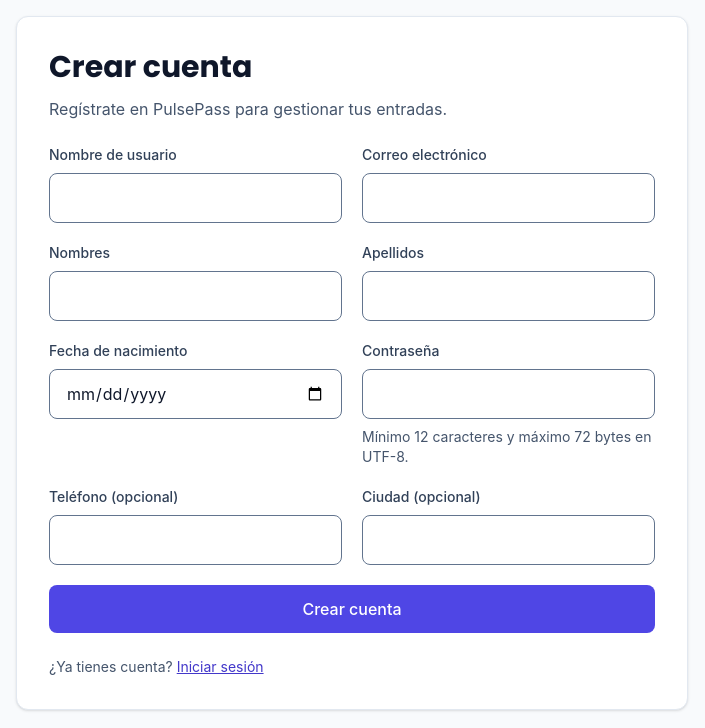
Test: Registro › ante 201 navega al login con aviso y no inicia sesión automáticamente
This screenshot has width=705, height=728.
Type "andrea" into the field labelled "Nombre de usuario" at (196, 198), box [49,173,342,223]
Type "andrea@example.com" into the field labelled "Correo electrónico" at (508, 198), box [362,173,655,223]
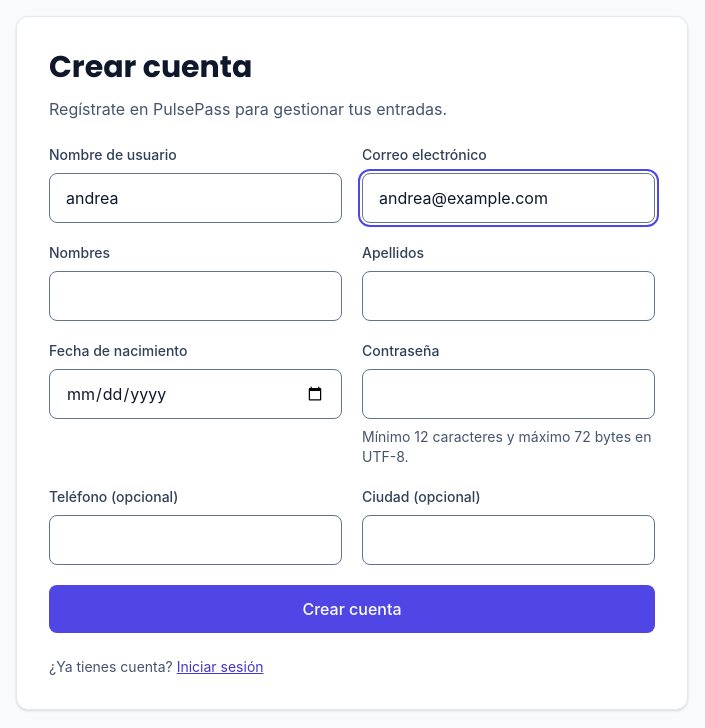
Type "Andrea" into the field labelled "Nombres" at (196, 296), box [49,271,342,321]
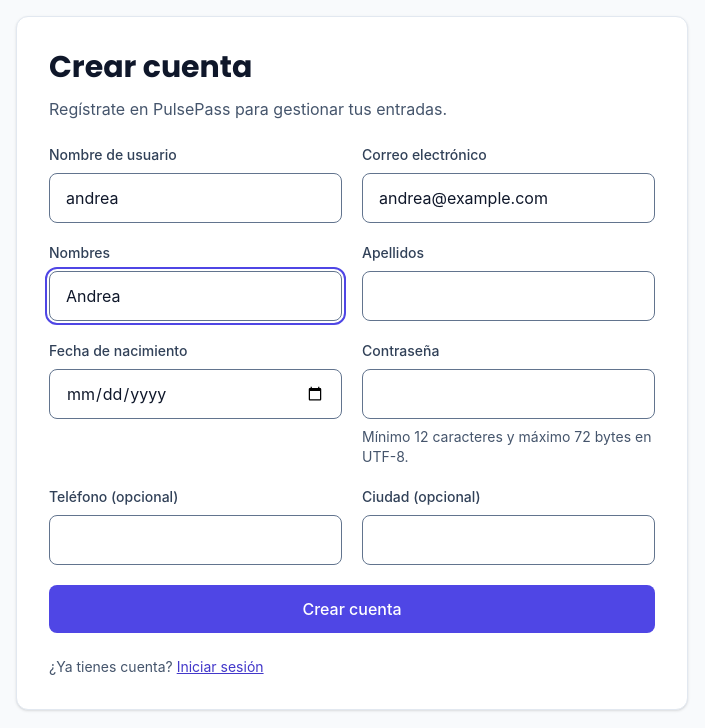
Type "Pérez" into the field labelled "Apellidos" at (508, 296), box [362,271,655,321]
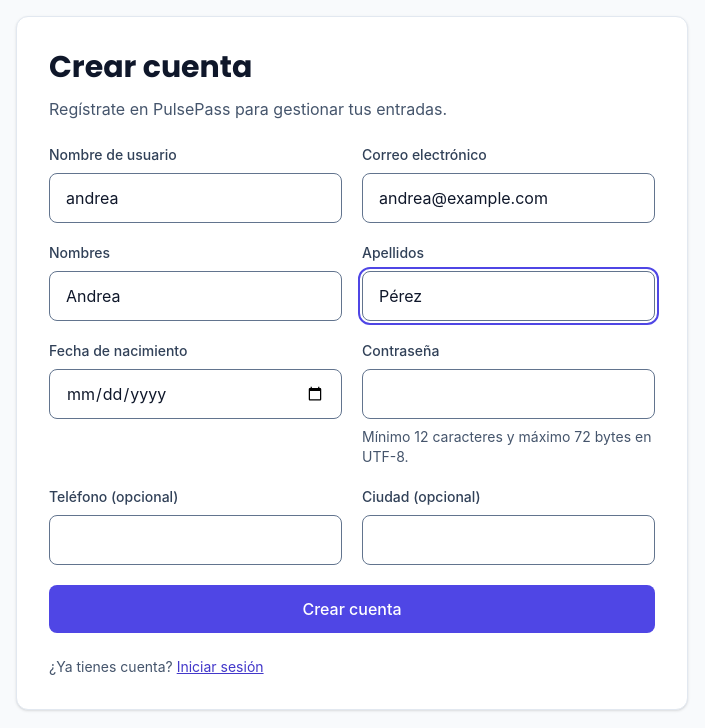
Type "2000-01-01" into the date field labelled "Fecha de nacimiento" at (196, 394), box [49,369,342,419]
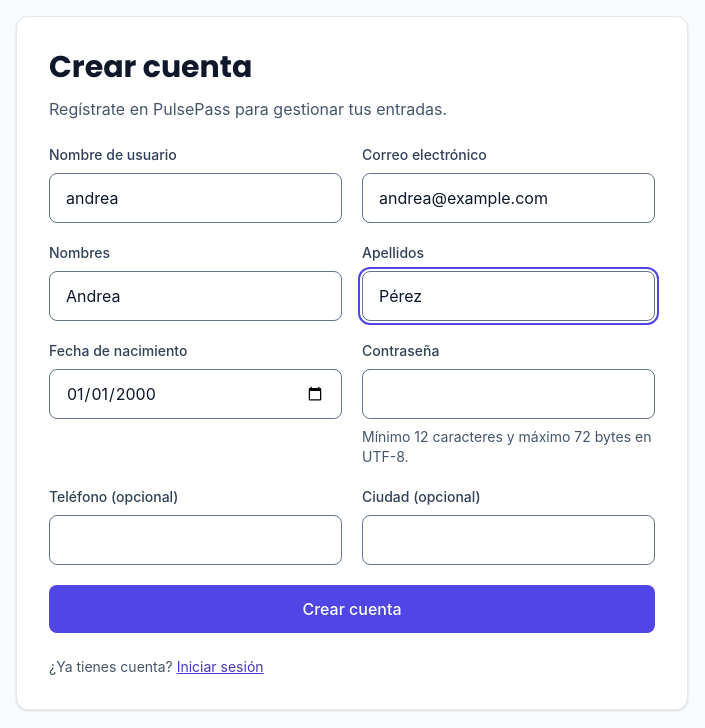
Type "contraseña-de-prueba" into the password field labelled "Contraseña" at (508, 394), box [362,369,655,419]
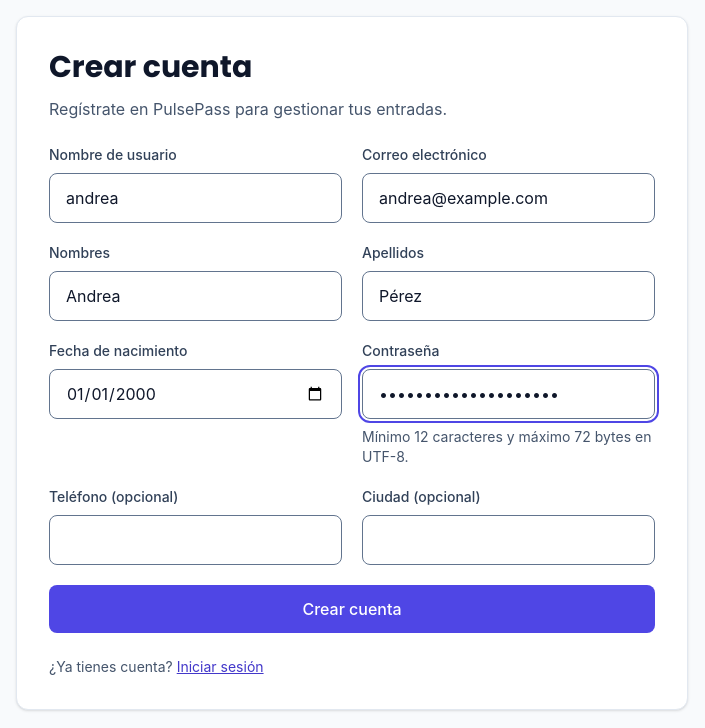
Click the button "Crear cuenta" at (352, 609), box [49,585,655,633]
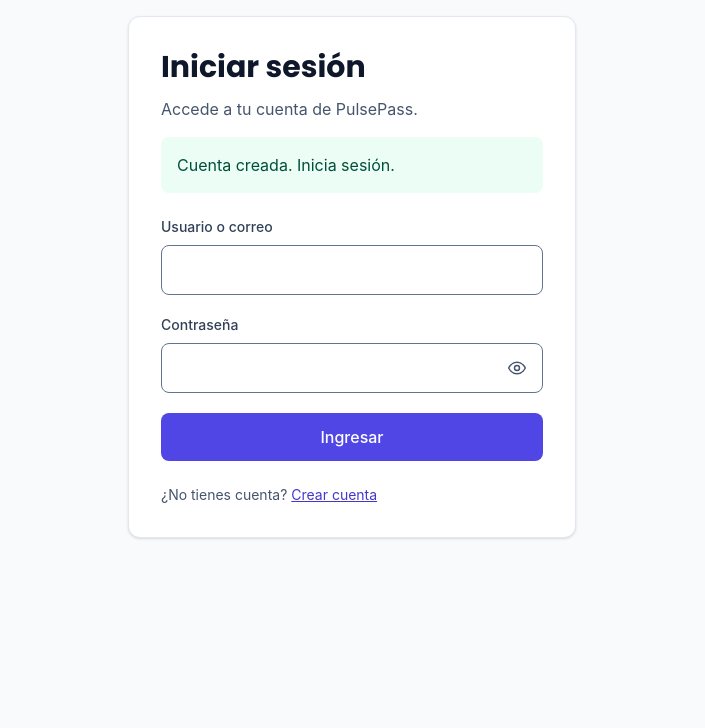
expect the text "Cuenta creada. Inicia sesión." is shown: met, box [161,137,543,193]
